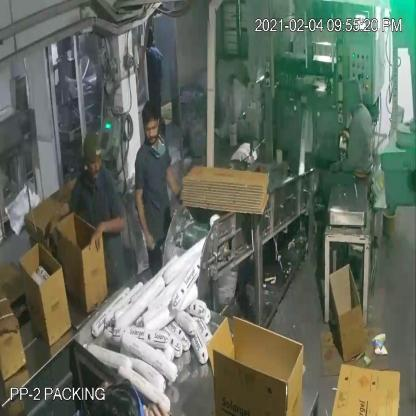no_glove: (131, 177, 159, 264), (86, 214, 129, 250), (42, 190, 76, 235), (161, 161, 188, 210)
